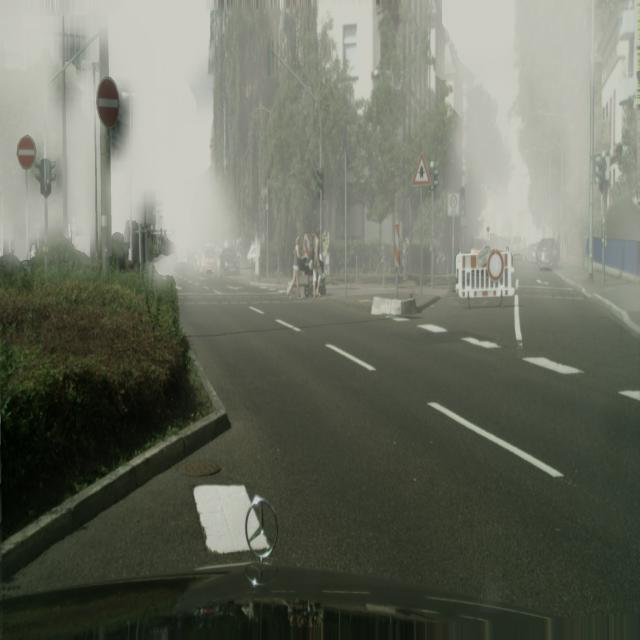bus: (287, 234, 309, 299), (312, 227, 322, 298)
person: (535, 238, 559, 271), (220, 245, 240, 276), (199, 244, 216, 271), (510, 234, 523, 258), (528, 241, 538, 263)
